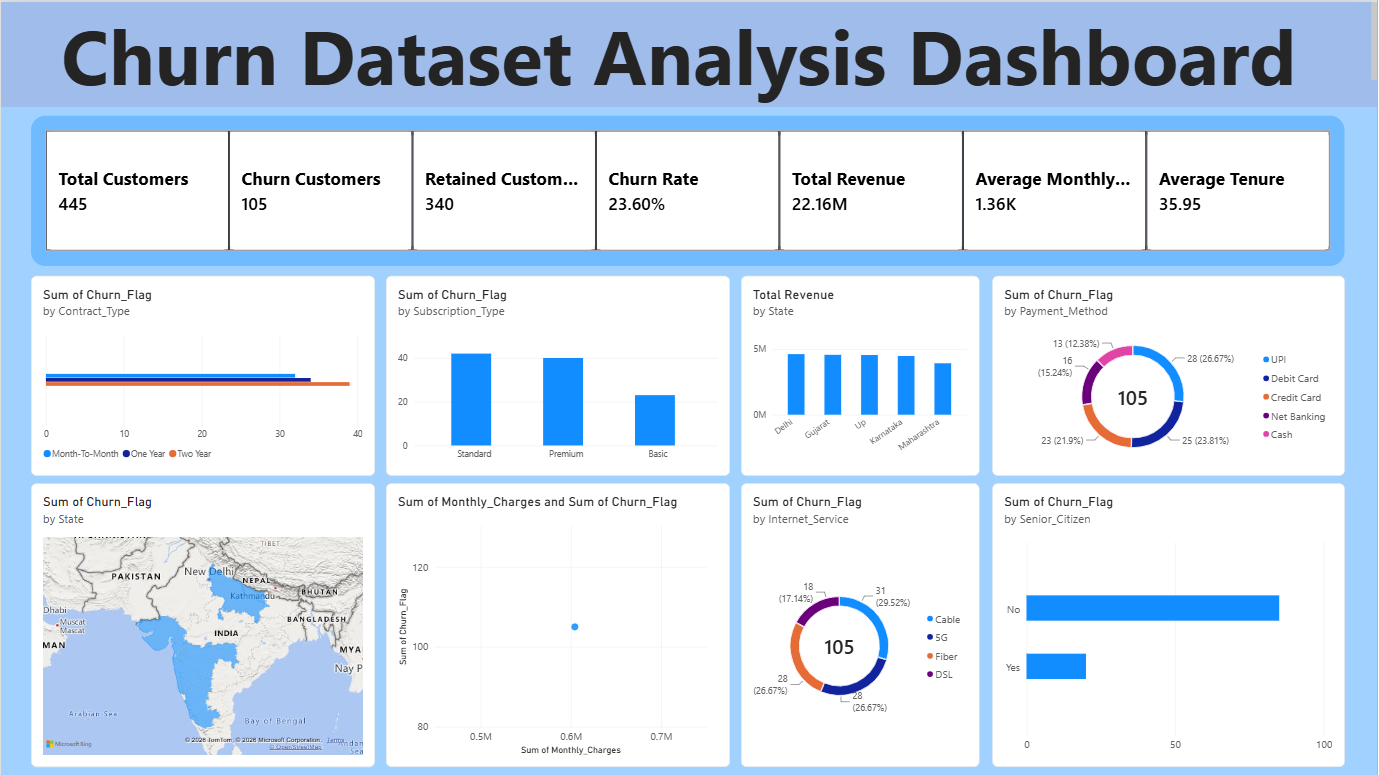

The dashboard page shown, as its layout file describes it:
{"tool":"powerbi","page":{"name":"Page 1","canvas":[1920,1080],"ordinal":0},"visuals":[{"type":"cardVisual","fields":{"Data":["Dax Measure.Total Customers","Dax Measure.Churn Customers","Dax Measure.Retained Customers","Dax Measure.Churn Rate","Dax Measure.Total Revenue","Dax Measure.Average Monthly Charges","Dax Measure.Average Tenure"]},"box":[41.9,158.7,1833.1,209.3],"z":0},{"type":"textbox","box":[0,0,1920.4,146.5],"z":1},{"type":"clusteredBarChart","fields":{"Series":["Clean_Churn_Data.Contract_Type"],"Y":["Sum(Clean_Churn_Data.Churn_Flag)"]},"box":[41.9,382,479.7,279.1],"z":2},{"type":"columnChart","fields":{"Category":["Clean_Churn_Data.Subscription_Type"],"Y":["Sum(Clean_Churn_Data.Churn_Flag)"]},"box":[537.2,382,480,279],"z":3},{"type":"filledMap","fields":{"Category":["Clean_Churn_Data.State"]},"box":[41.9,671.5,479.7,395.9],"z":4},{"type":"scatterChart","fields":{"X":["Sum(Clean_Churn_Data.Monthly_Charges)"],"Y":["Sum(Clean_Churn_Data.Churn_Flag)"]},"box":[537,672,480,396],"z":5},{"type":"clusteredColumnChart","fields":{"Category":["Clean_Churn_Data.State"],"Y":["Dax Measure.Total Revenue"]},"box":[1032.6,382,333.1,279.1],"z":6},{"type":"donutChart","fields":{"Category":["Clean_Churn_Data.Internet_Service"],"Y":["Sum(Clean_Churn_Data.Churn_Flag)"]},"box":[1033,672,333,396],"z":7},{"type":"donutChart","fields":{"Category":["Clean_Churn_Data.Payment_Method"],"Y":["Sum(Clean_Churn_Data.Churn_Flag)"]},"box":[1383.1,382,491.9,279.1],"z":8},{"type":"barChart","fields":{"Category":["Clean_Churn_Data.Senior_Citizen"],"Y":["Sum(Clean_Churn_Data.Churn_Flag)"]},"box":[1383.1,671.5,491.9,395.9],"z":9}]}

Visuals, with their boxes in screenshot pixels (x1, y1, x2, y2), scaled from the page's 1920x1080 canvas onto the 1379x775 screenshot:
cardVisual - Dax Measure.Total Customers x Dax Measure.Churn Customers: bbox(30, 114, 1347, 264)
textbox: bbox(0, 0, 1378, 105)
clusteredBarChart - Clean_Churn_Data.Contract_Type x Sum(Clean_Churn_Data.Churn_Flag): bbox(30, 274, 375, 474)
columnChart - Clean_Churn_Data.Subscription_Type x Sum(Clean_Churn_Data.Churn_Flag): bbox(386, 274, 731, 474)
filledMap - Clean_Churn_Data.State: bbox(30, 482, 375, 766)
scatterChart - Sum(Clean_Churn_Data.Monthly_Charges) x Sum(Clean_Churn_Data.Churn_Flag): bbox(386, 482, 730, 766)
clusteredColumnChart - Clean_Churn_Data.State x Dax Measure.Total Revenue: bbox(742, 274, 981, 474)
donutChart - Clean_Churn_Data.Internet_Service x Sum(Clean_Churn_Data.Churn_Flag): bbox(742, 482, 981, 766)
donutChart - Clean_Churn_Data.Payment_Method x Sum(Clean_Churn_Data.Churn_Flag): bbox(993, 274, 1347, 474)
barChart - Clean_Churn_Data.Senior_Citizen x Sum(Clean_Churn_Data.Churn_Flag): bbox(993, 482, 1347, 766)
